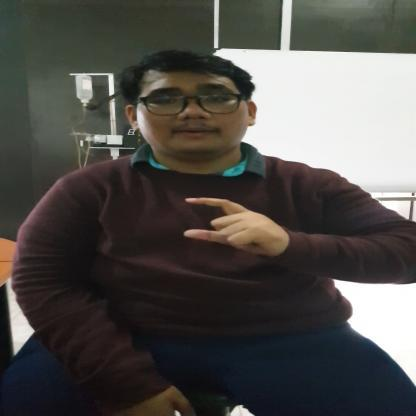C: (181, 197, 289, 254)
